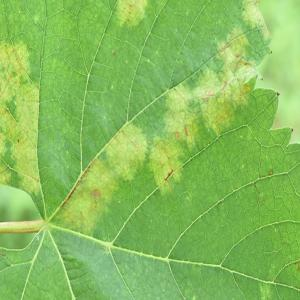Folha: (0, 0, 299, 299)
Fungo: (152, 35, 252, 204), (64, 116, 144, 246), (0, 14, 43, 199), (2, 39, 30, 85), (114, 0, 147, 31), (0, 219, 44, 234), (253, 182, 265, 204), (164, 168, 173, 181), (92, 188, 100, 198), (184, 124, 188, 136), (102, 247, 108, 255), (268, 168, 273, 176), (112, 49, 117, 57), (175, 131, 179, 138), (276, 92, 279, 97)
